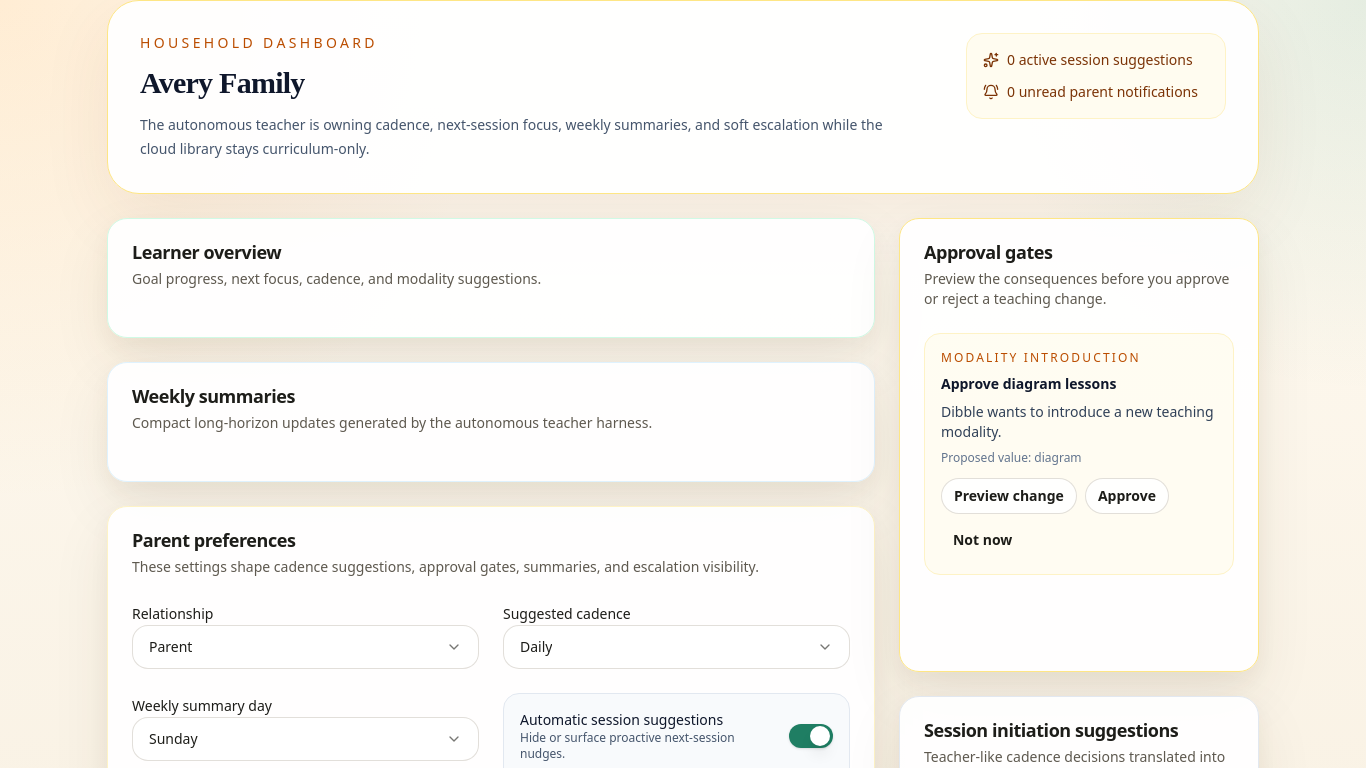
Test: Parent Dashboard › shows approval consequences before the parent approves or rejects
This screenshot has width=1366, height=768.
Click the button "Preview change" at (1009, 496), box [941, 478, 1077, 514]
(page scrolled)
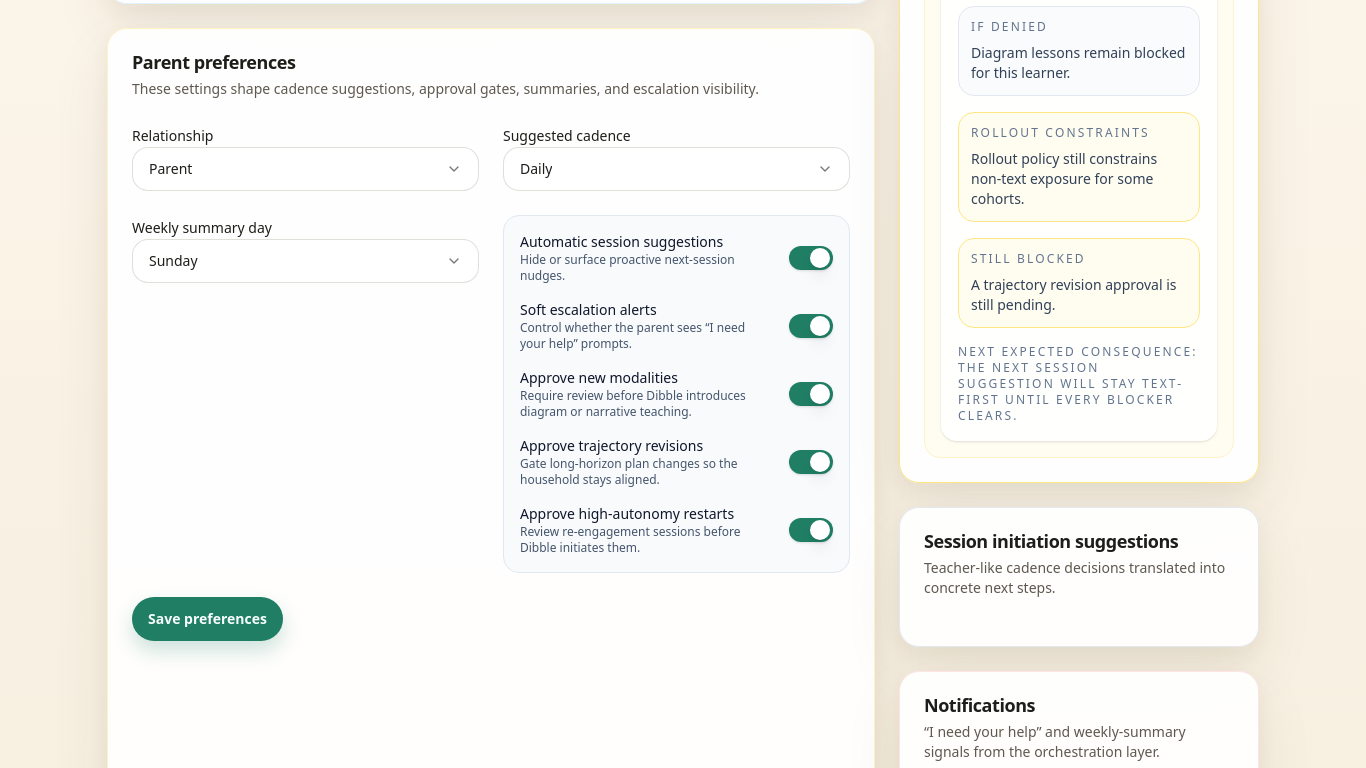
Expected: the text "Rollout constraints" is shown, [971, 124, 1150, 141]
Expected: the text "The next session suggestion will stay text-first until every blocker clears." is shown, [958, 359, 1183, 424]
